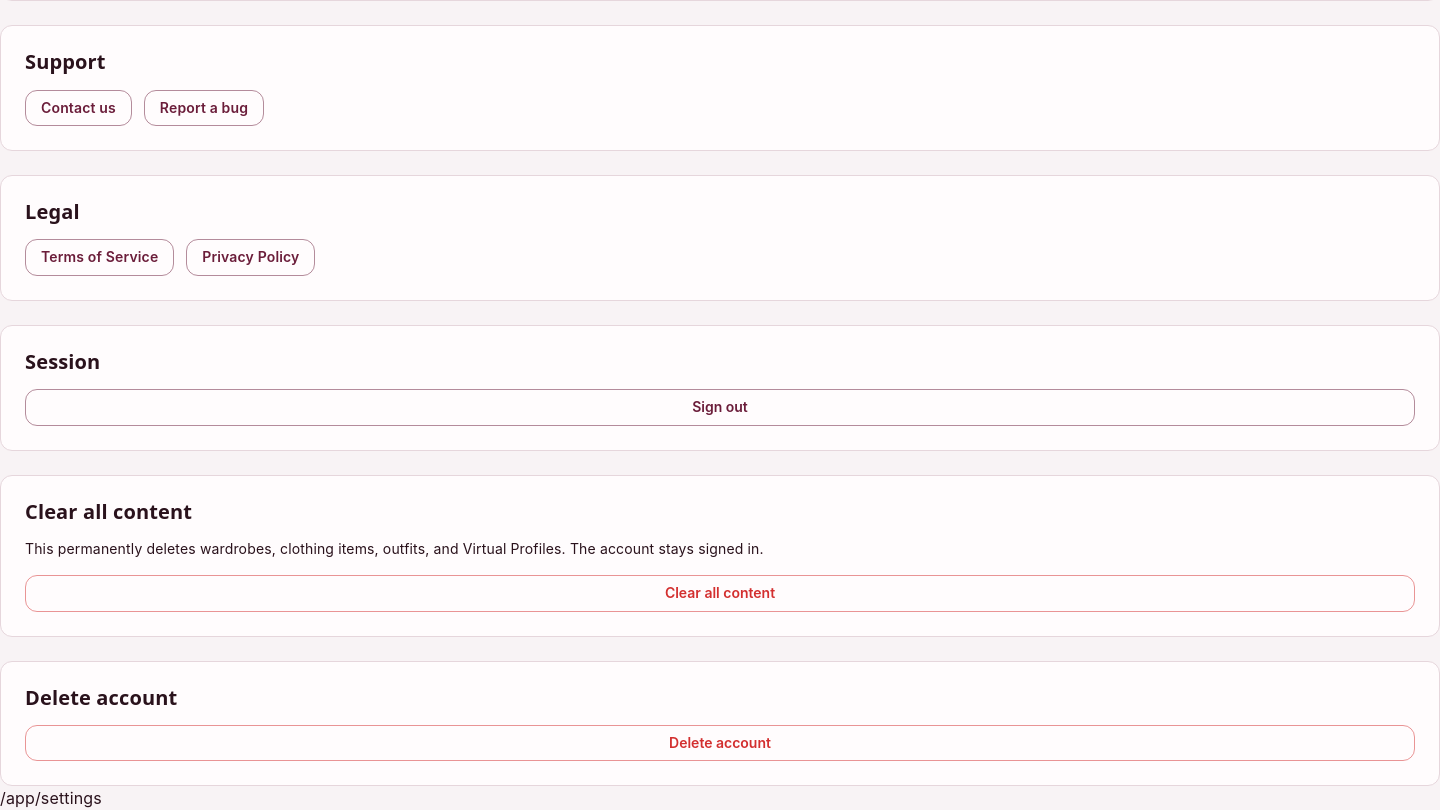
Scenario: SettingsPage › shows the error and stays signed in when clear content fails
(page scrolled)
Click the button with aria-label "Clear all wardrobe content" at {"x": 720, "y": 593}, box top-left (25, 575), bottom-right (1415, 612)
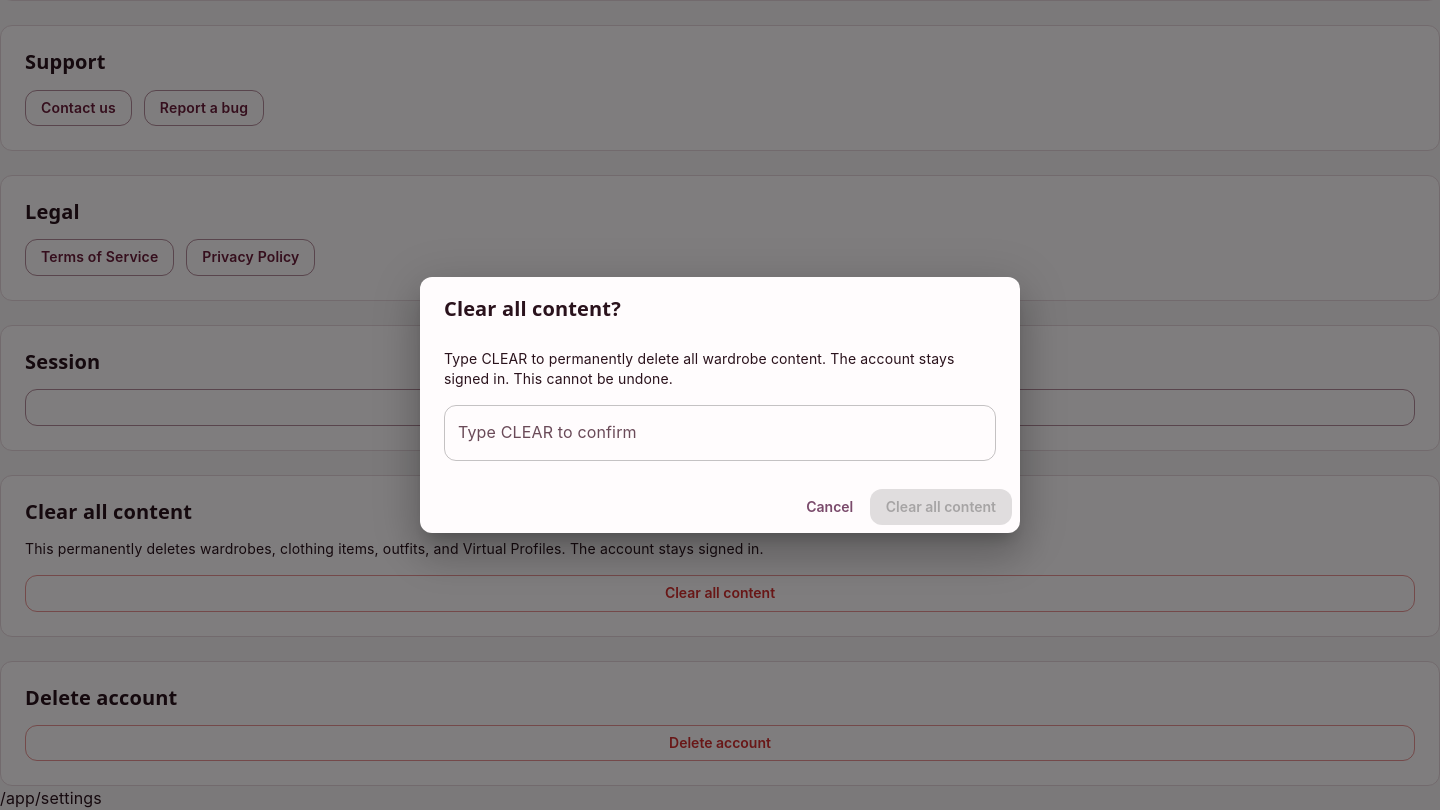
Type "CLEAR" into the field labelled "Type CLEAR to confirm" at {"x": 720, "y": 433}, box top-left (444, 405), bottom-right (996, 461)
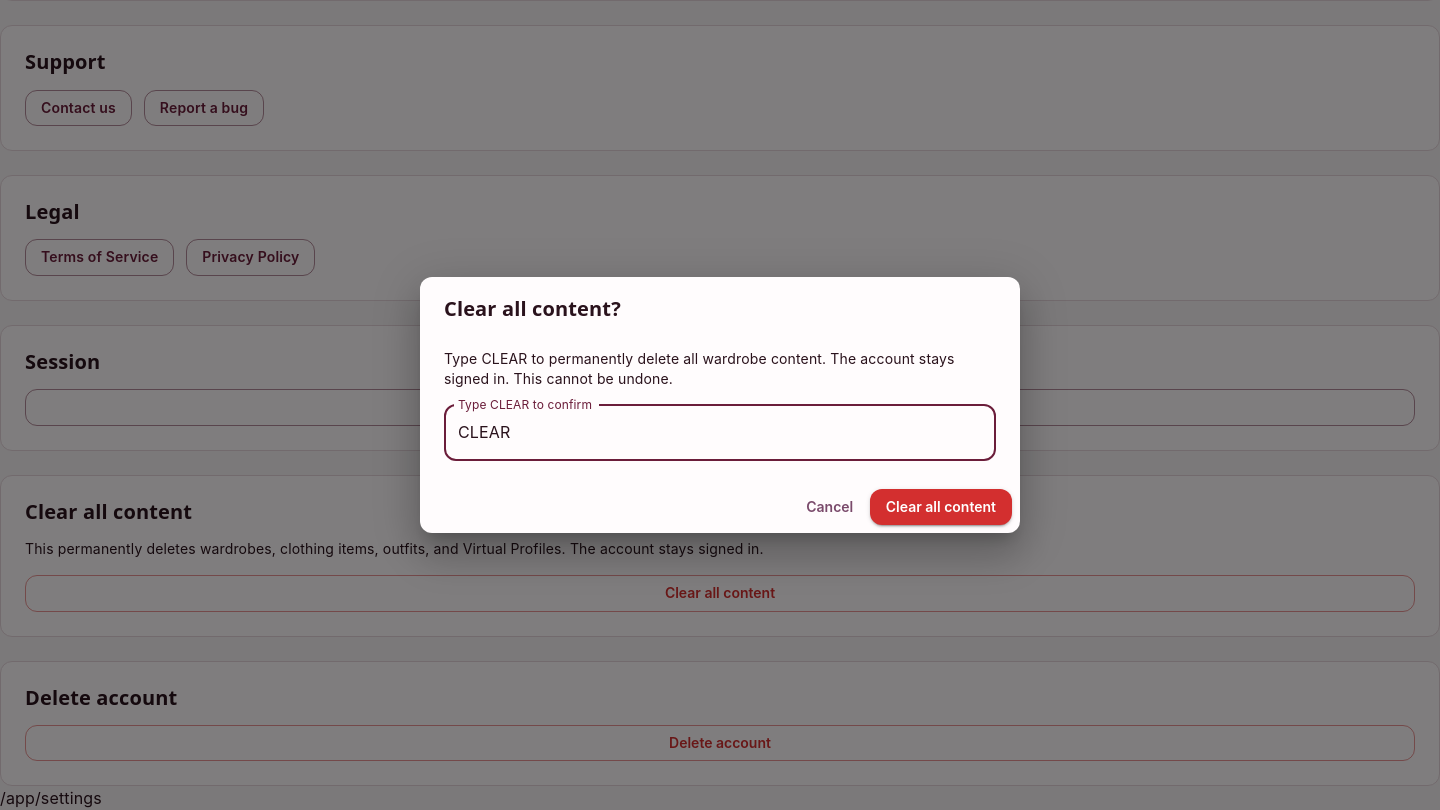
Click the button "Clear all content" at {"x": 941, "y": 507}, box top-left (870, 489), bottom-right (1012, 525)
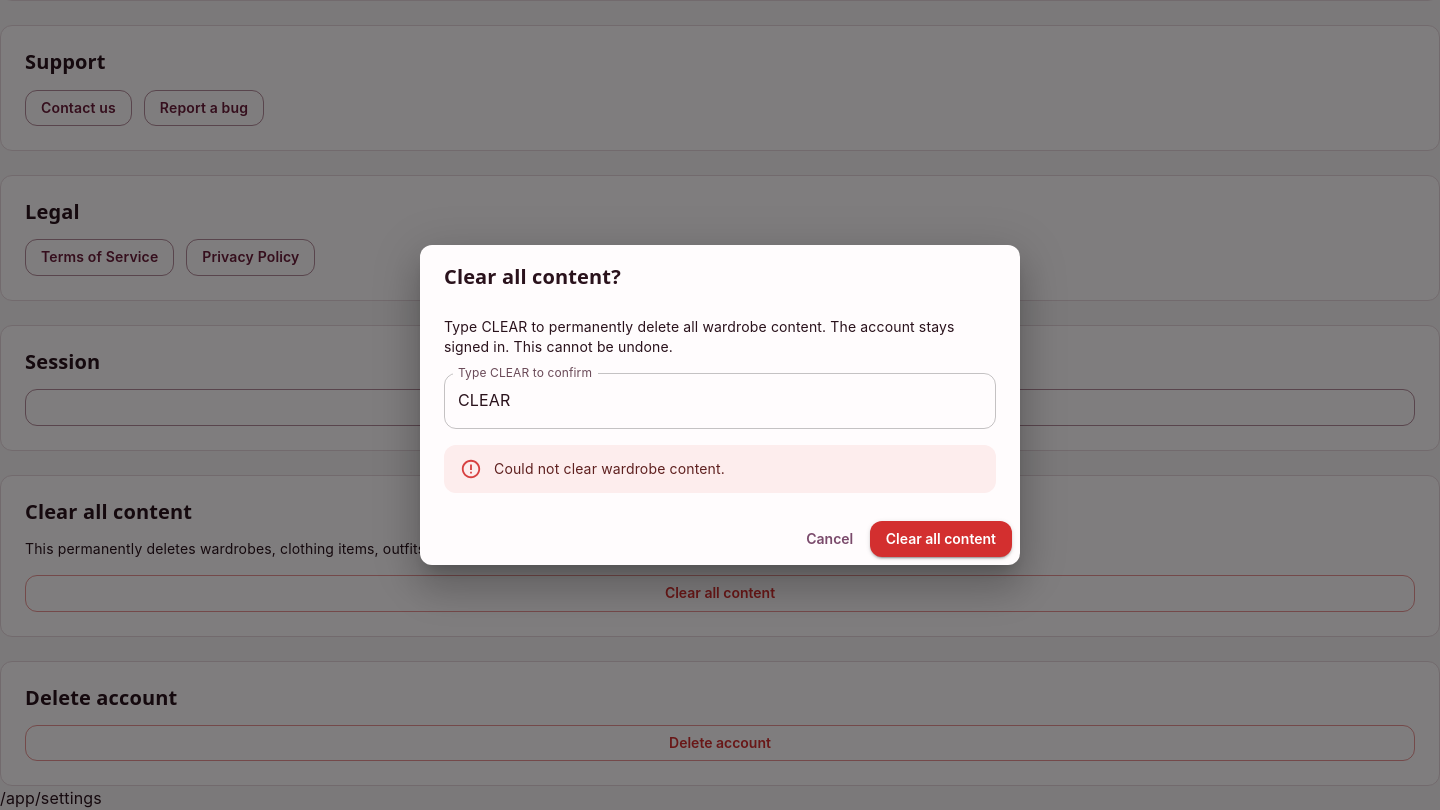
Expected: the dialog "Clear all content?" is shown, top-left (420, 245), bottom-right (1020, 565)
Expected: the text "Could not clear wardrobe content." is shown, top-left (494, 460), bottom-right (725, 477)
